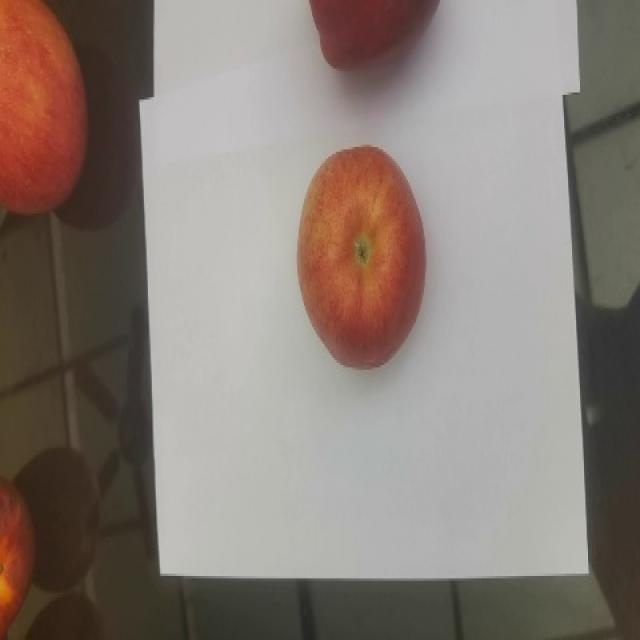Apple: (296, 143, 426, 370), (0, 0, 89, 216), (307, 0, 441, 70), (0, 475, 36, 639)
